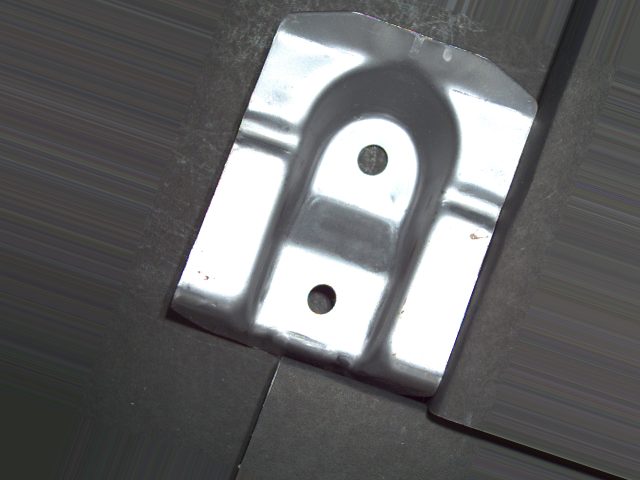defect: (353, 140, 392, 181)
